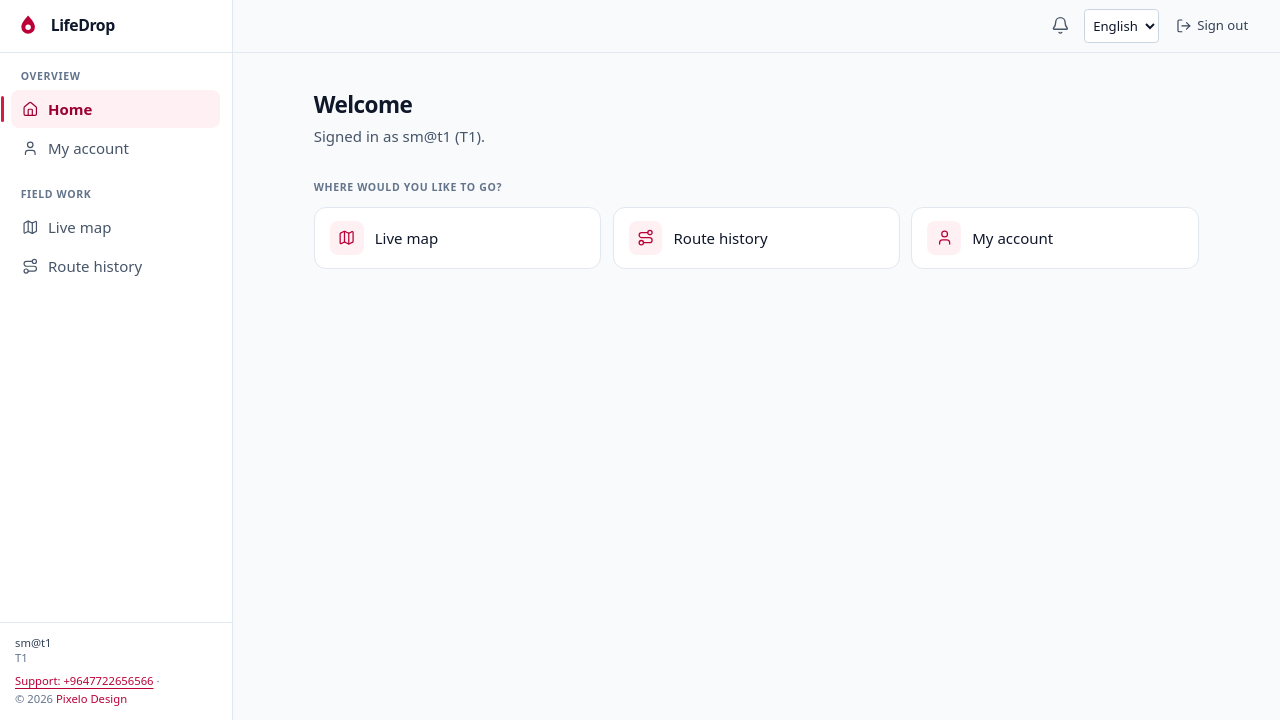
it: route history › says when the day has no points, when old points were deleted, and shows an error for a user outside the area
The image size is (1280, 720).
Click the button "Route history" at (116, 267), box [11,248,220,285]
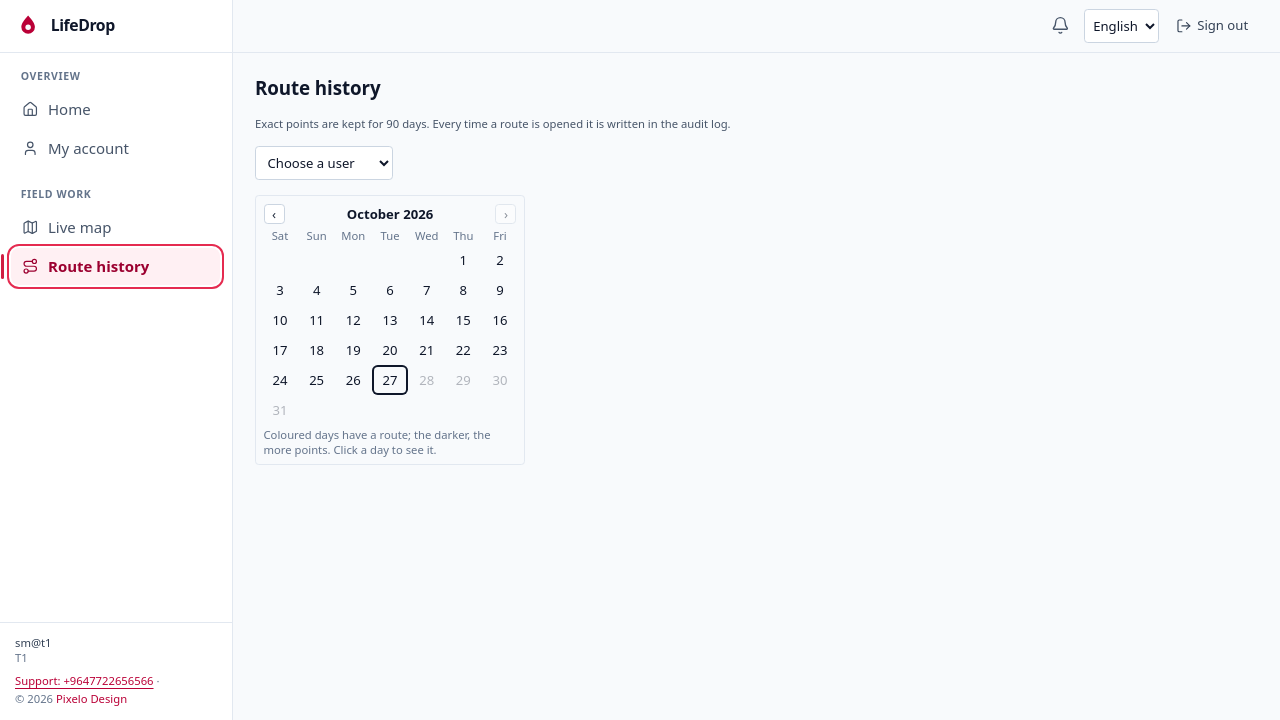
Select "rep@t1 · Team A" in the dropdown named "User" at (324, 163), box [255,146,393,180]
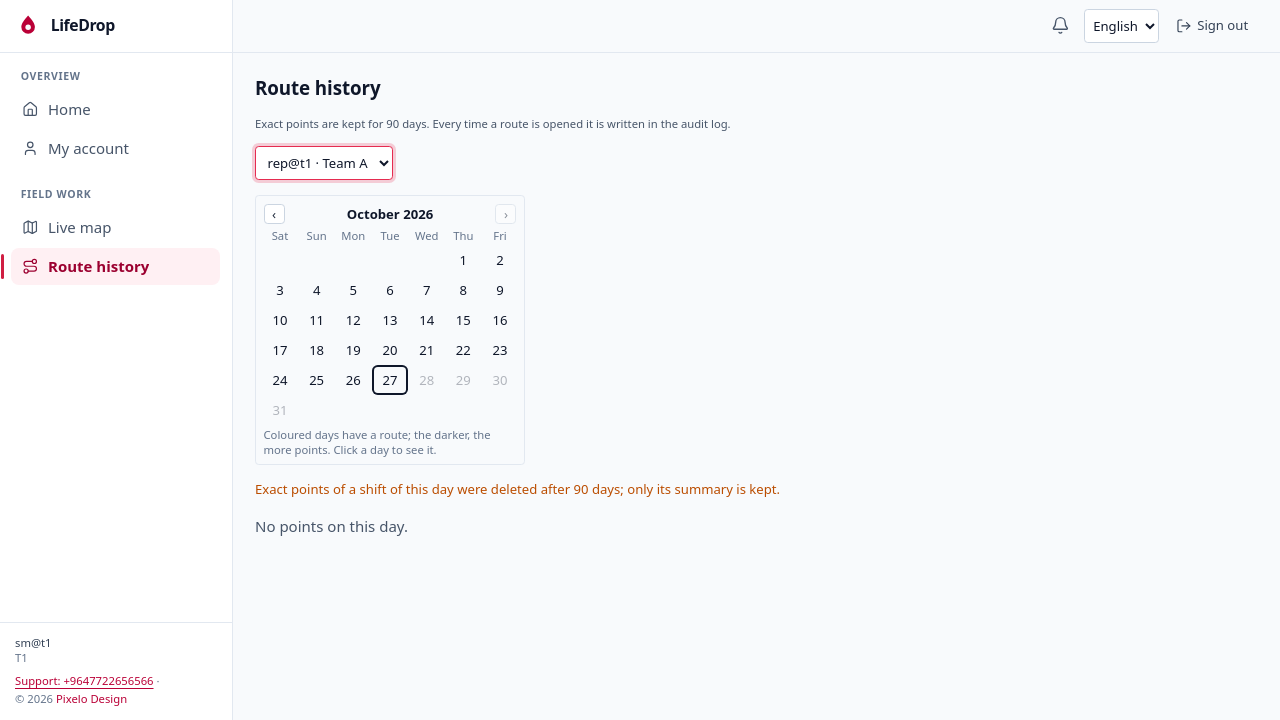
expect the text "No points on this day." is shown: met, box [255,516,408,536]
expect the text "deleted after 90 days" is shown: met, box [255,480,780,498]
